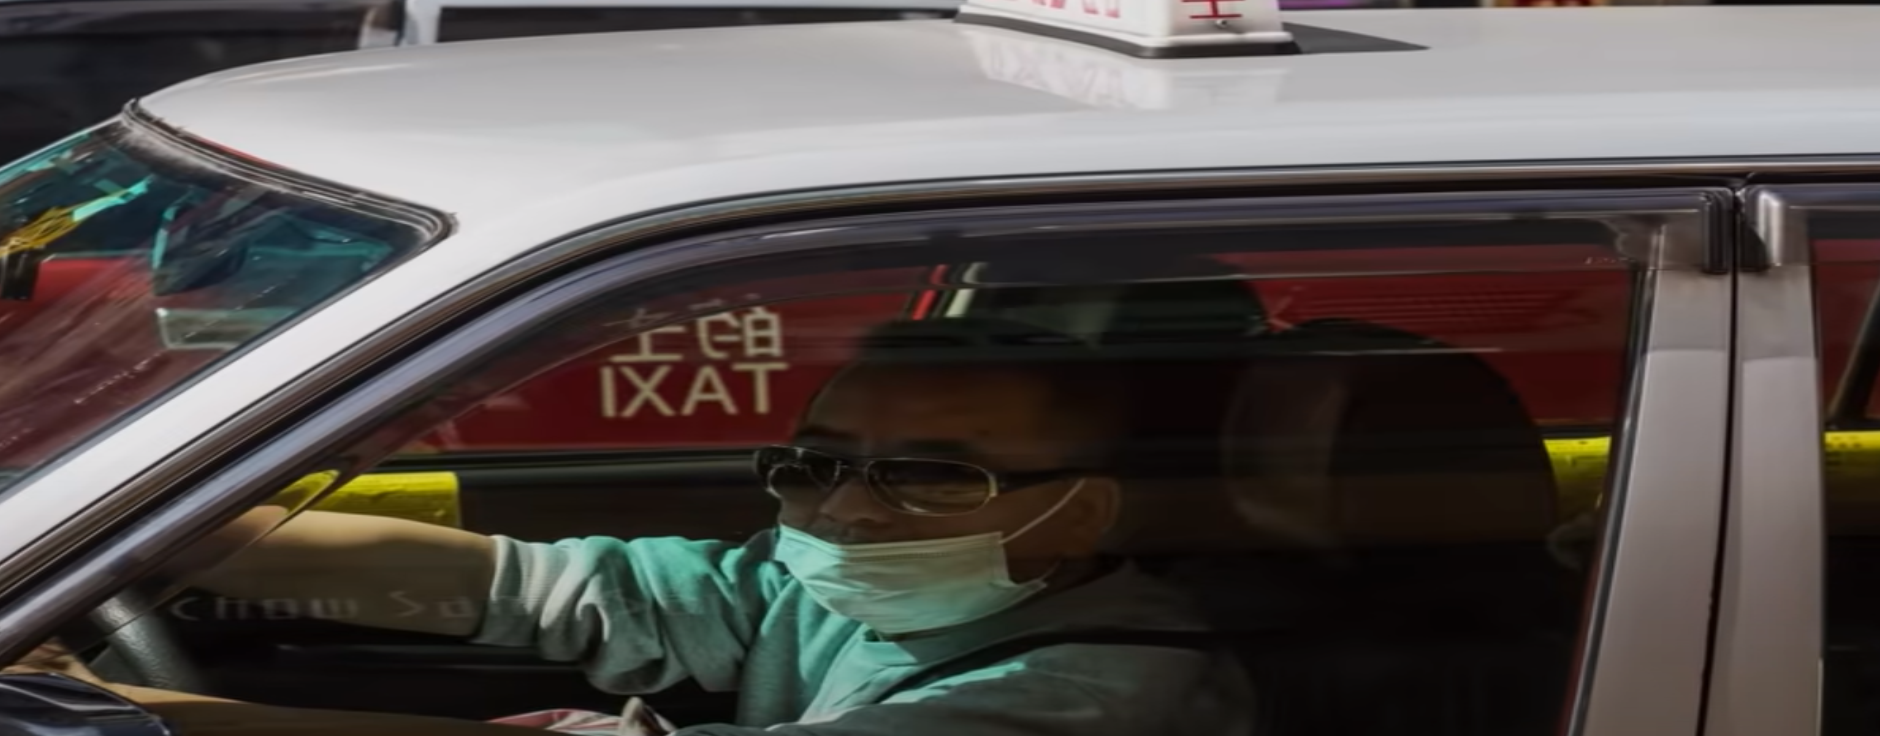mask_weared_incorrect: (760, 322, 1164, 639)
